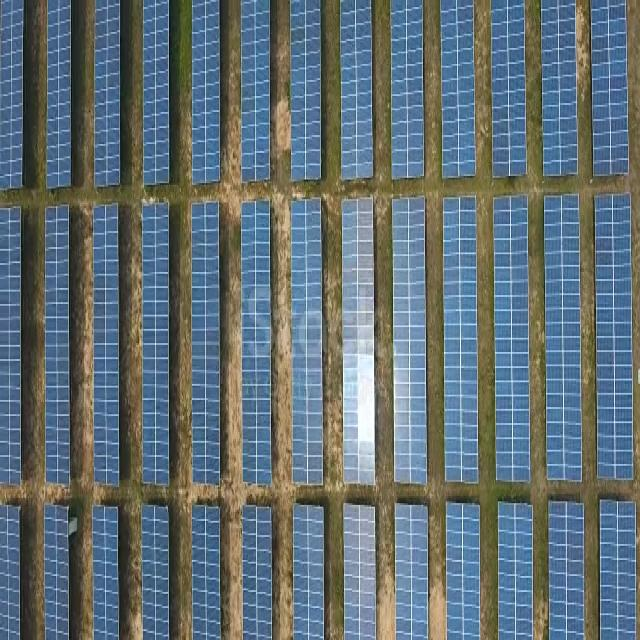Solar-panels: (495, 195, 534, 483), (394, 197, 432, 485), (596, 194, 634, 480), (547, 193, 583, 483), (445, 194, 479, 479), (345, 197, 378, 486), (290, 199, 323, 483), (244, 201, 273, 485), (193, 202, 222, 484), (143, 204, 170, 486), (437, 1, 477, 182), (94, 198, 119, 486), (47, 208, 72, 485), (492, 3, 529, 178), (391, 1, 427, 178), (543, 3, 579, 175), (596, 5, 630, 177), (1, 212, 22, 486), (291, 5, 323, 181), (341, 1, 372, 178), (193, 1, 222, 184), (242, 3, 271, 181), (549, 502, 586, 640), (144, 5, 172, 186), (447, 501, 483, 640), (94, 1, 121, 184), (600, 503, 636, 640), (498, 507, 535, 639), (49, 1, 75, 186), (396, 506, 431, 640), (345, 503, 378, 640), (89, 505, 121, 640), (295, 506, 327, 640), (2, 2, 25, 188), (192, 505, 222, 640), (143, 505, 172, 640), (244, 505, 273, 640), (45, 507, 70, 640), (2, 507, 19, 640)
